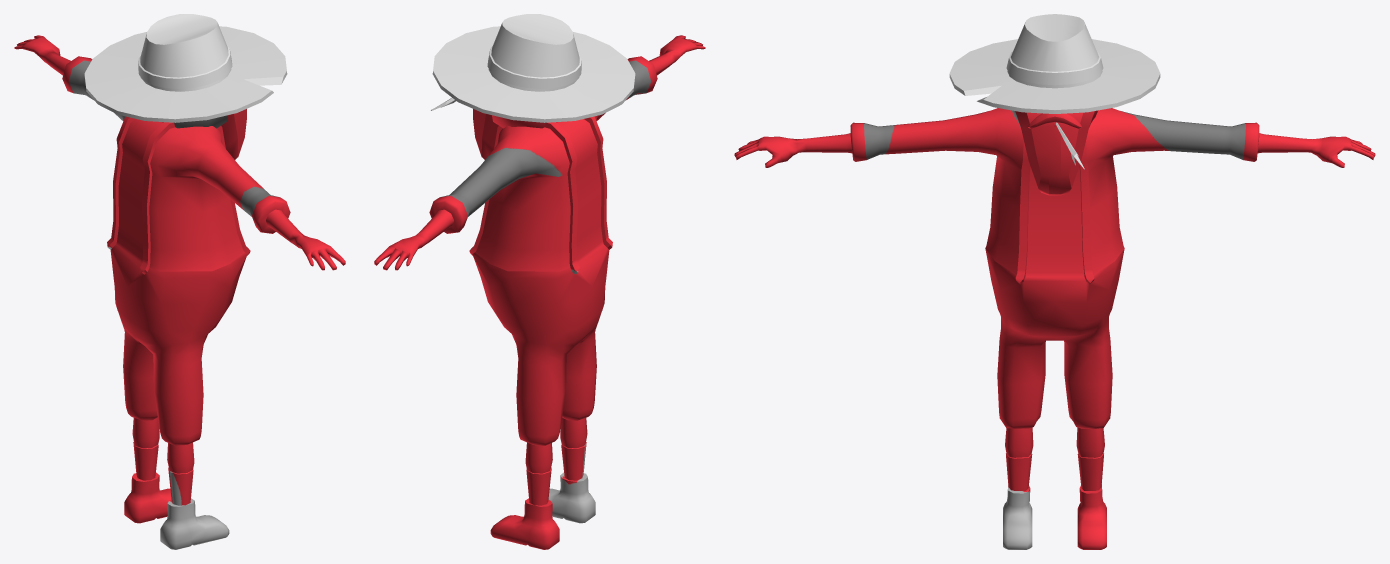
The model's file is WillyModel.fbx.
3 views of the same model, side by side, from view 1: azimuth 30°, elevation 25°; view 2: azimuth 150°, elevation 25°; view 3: azimuth 270°, elevation 25° (orthographic). The views are drawn at different scales.
Visible parts, largest first — view 1: WheatWillyMesh, Hat; view 2: WheatWillyMesh, Hat; view 3: WheatWillyMesh, Hat.
Part boxes in pixels (x1=…): WheatWillyMesh: x1=14, y1=35, x2=345, y2=549; Hat: x1=84, y1=14, x2=287, y2=122; WheatWillyMesh: x1=374, y1=35, x2=705, y2=549; Hat: x1=432, y1=14, x2=635, y2=122; WheatWillyMesh: x1=734, y1=108, x2=1375, y2=549; Hat: x1=949, y1=14, x2=1160, y2=113.
Size of the model in its own units: 7.97 by 7.06 by 2.63.
